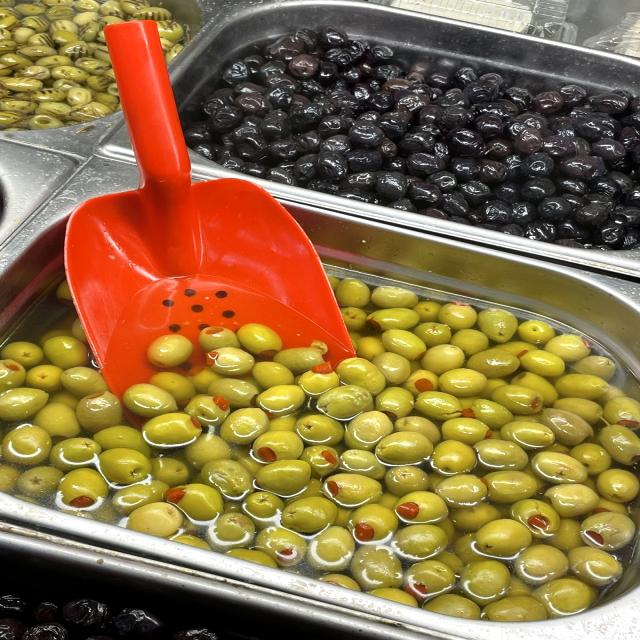olive: (416, 133, 515, 199), (426, 73, 538, 128), (283, 49, 407, 95), (232, 109, 329, 165), (341, 119, 391, 151), (518, 151, 562, 181)
